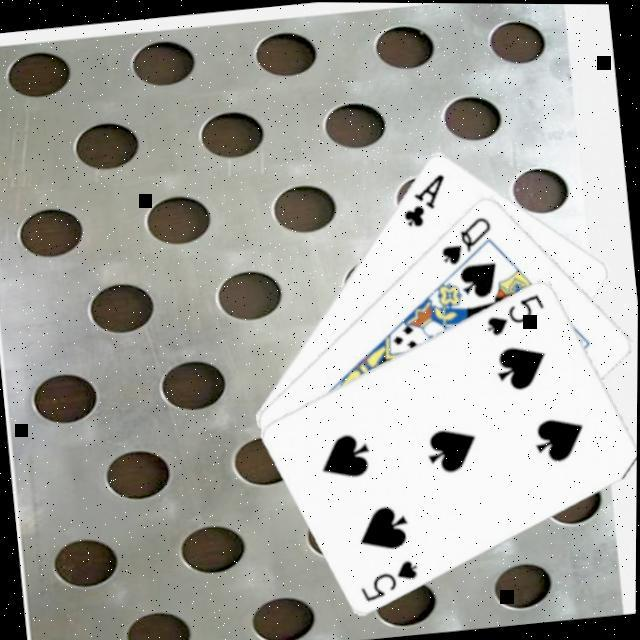5S: (356, 552, 426, 602), (482, 286, 551, 336)
AC: (397, 166, 455, 228)
QS: (436, 208, 499, 266)
